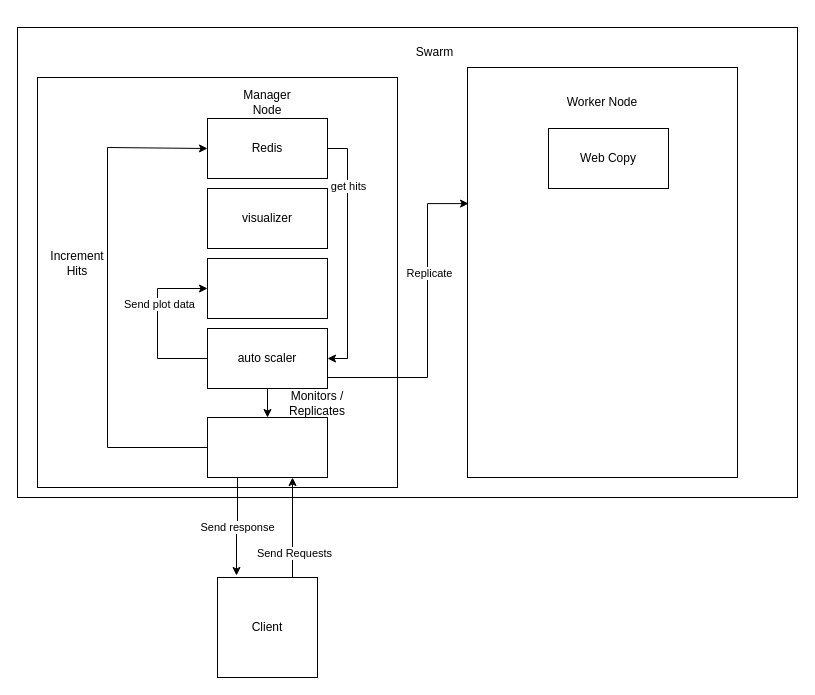
The diagram is 815 pixels wide and 695 high, and some of its shapes have lost their labels. The centre of each missing label's shape, as x and y in pixels:
"auto-scaler-plots" goes at point 267,288.
"Web" goes at point 267,447.
